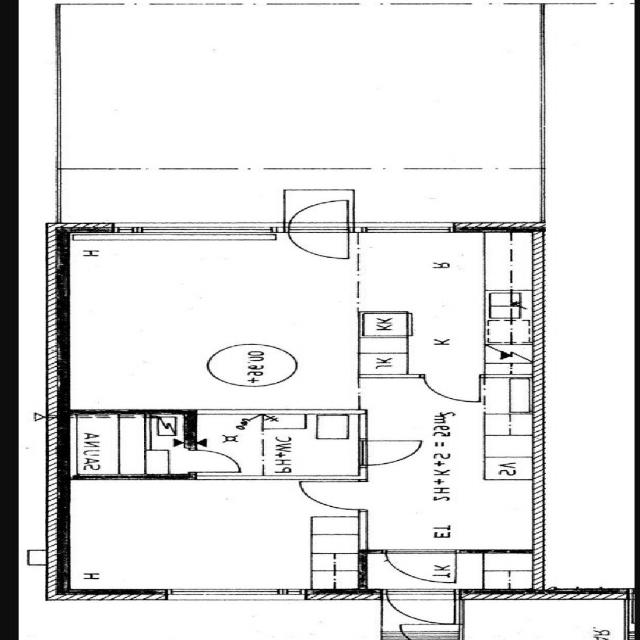door: (387, 590, 455, 631), (387, 550, 457, 587), (290, 195, 349, 232), (290, 223, 349, 260), (298, 481, 369, 510), (425, 375, 481, 404), (360, 440, 420, 464), (190, 451, 248, 472), (410, 625, 468, 640)
